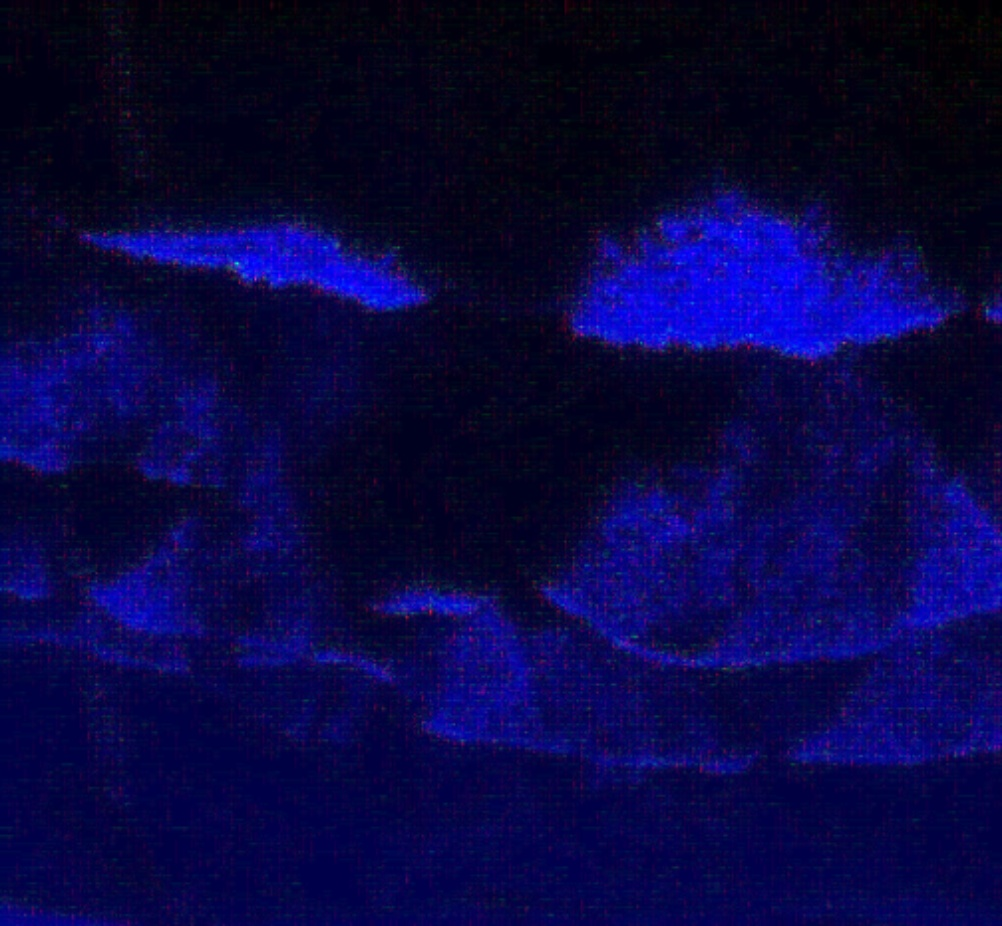rip_current: (242, 161, 665, 705)
